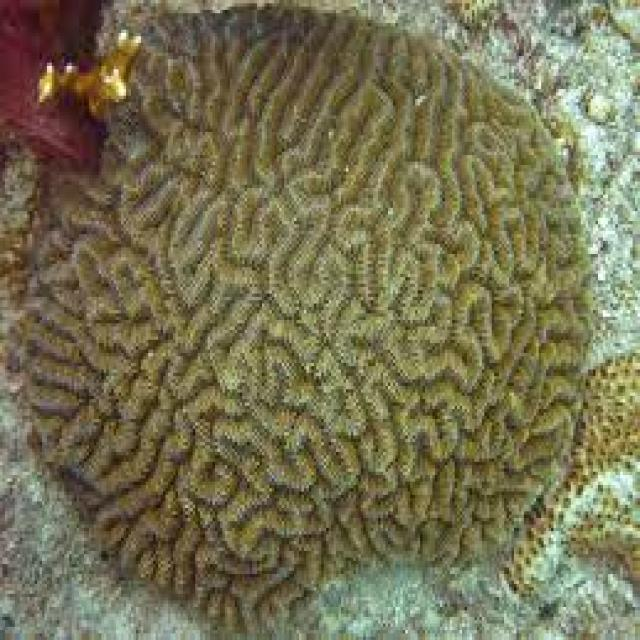Coral: (22, 4, 592, 632)
